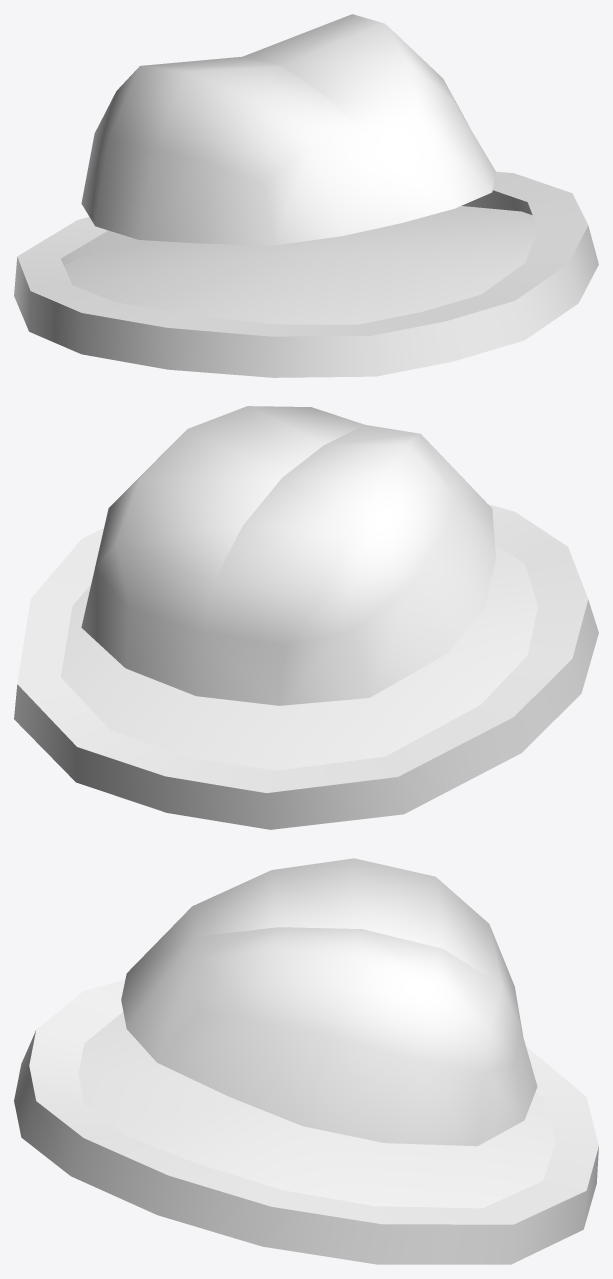
File: Female_Hat_01_v2.fbx
The picture shows the model from 3 angles, top to bottom: view 1: azimuth 30°, elevation 25°; view 2: azimuth 150°, elevation 25°; view 3: azimuth 270°, elevation 25°; orthographic projection.
Parts seen in each view (by area): view 1: Female_Hat_01_v2; view 2: Female_Hat_01_v2; view 3: Female_Hat_01_v2.
Boxes of the visible parts, x1,y1,x2,y2 form: Female_Hat_01_v2: (14, 14, 598, 377); Female_Hat_01_v2: (14, 406, 598, 829); Female_Hat_01_v2: (14, 858, 598, 1264).
Size of the model in its own units: 78.09 by 40.63 by 77.96.
